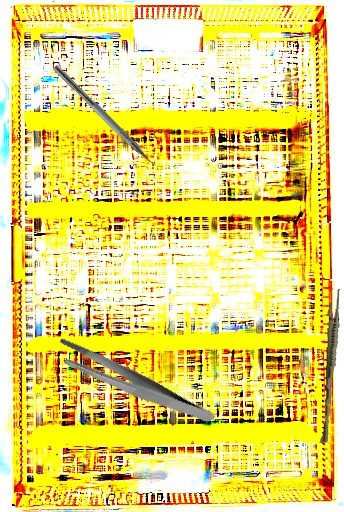Chopper: (45, 63, 166, 182)
Dressing Forceps: (50, 307, 217, 460)
Tissue Forceps: (319, 288, 342, 444)
